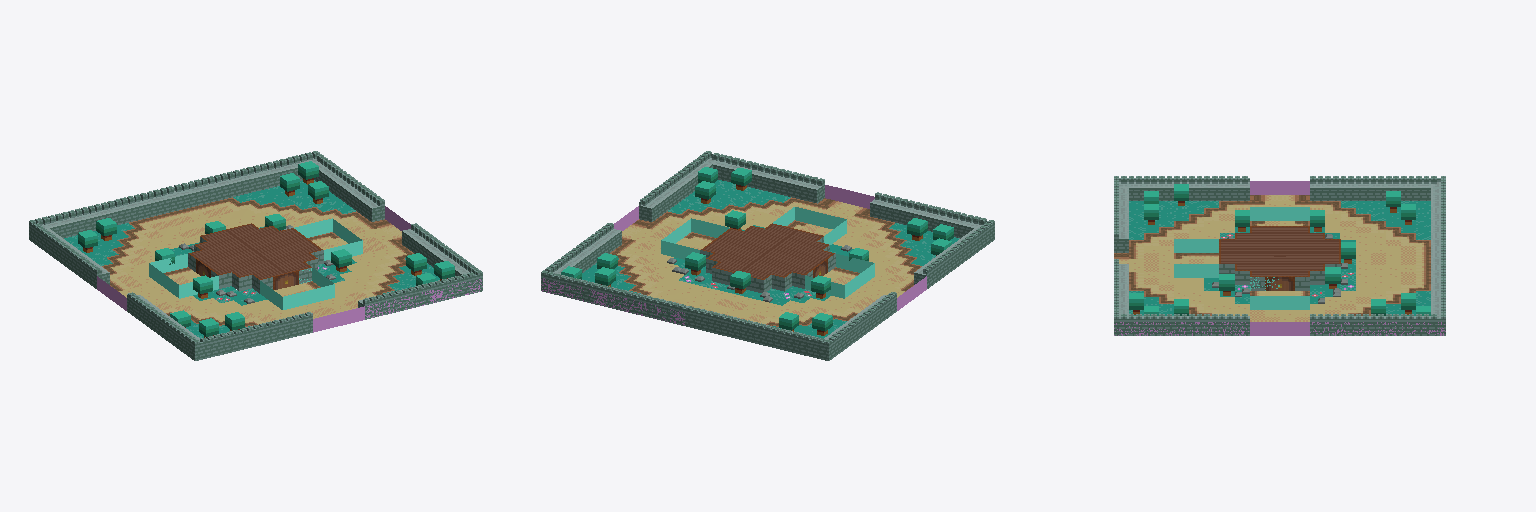
3 renders of one model, left to right at view 1: azimuth 30°, elevation 25°; view 2: azimuth 150°, elevation 25°; view 3: azimuth 270°, elevation 25°, orthographic.
Visible parts, largest first — view 1: Default; view 2: Default; view 3: Default.
Part boxes in pixels (x1,y1,x2,y2): Default: (29,151,482,360); Default: (541,151,994,360); Default: (1114,176,1445,335).
Bounding box in the file's own units: 22 × 1.38 × 22.
1 materials, 1 textured.